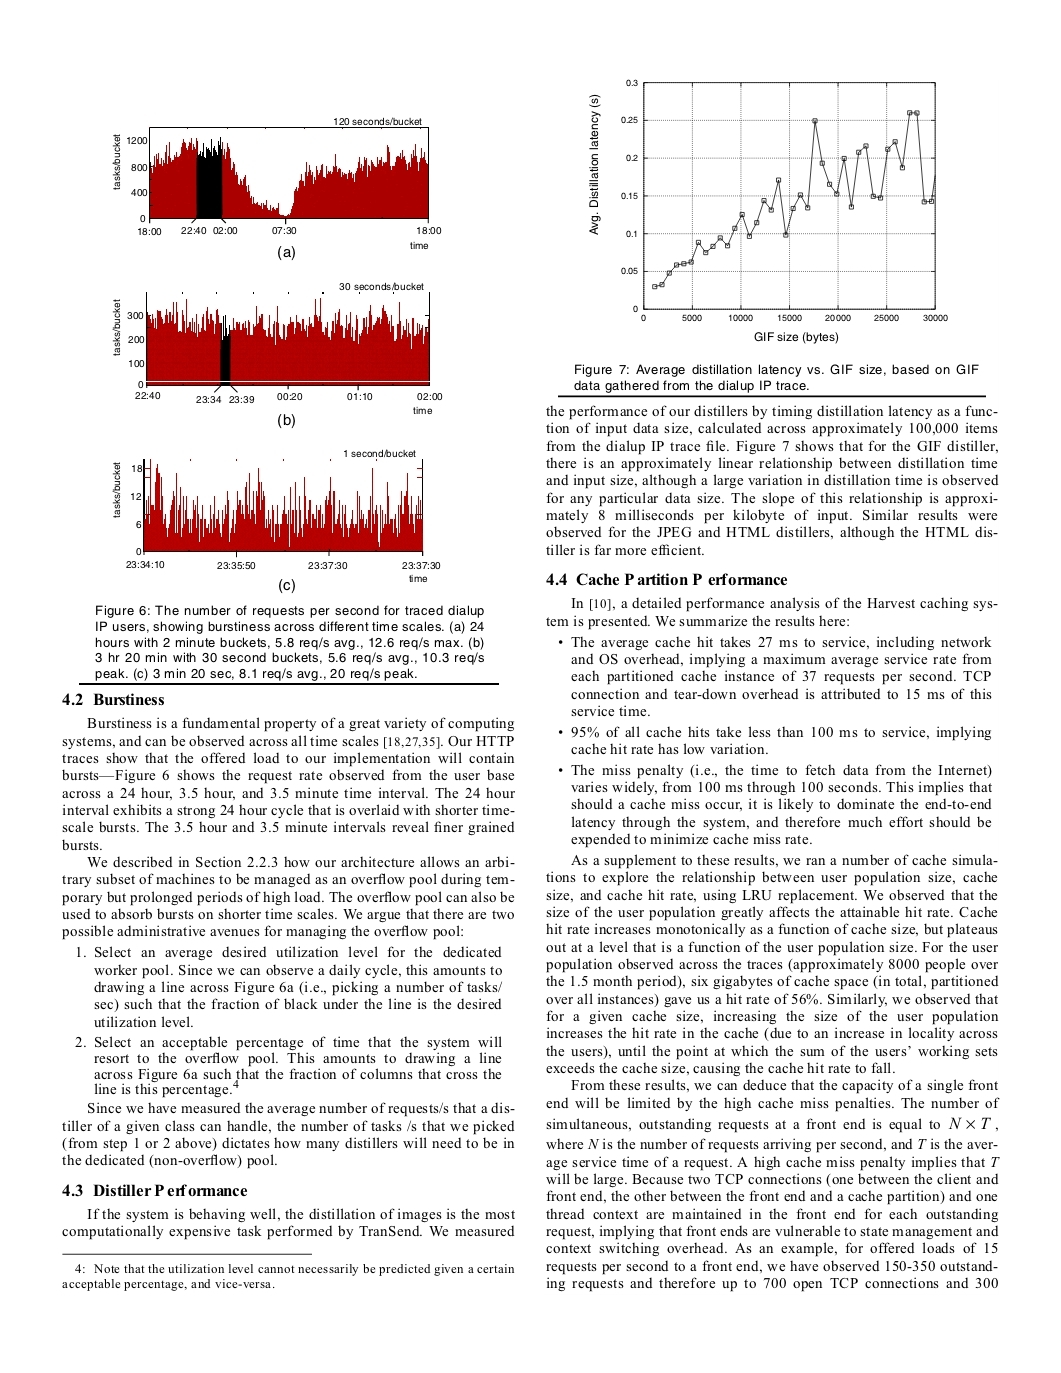figure: (588, 79, 947, 321), (111, 282, 442, 402), (111, 449, 440, 569), (111, 117, 441, 235), (62, 1252, 311, 1255)
